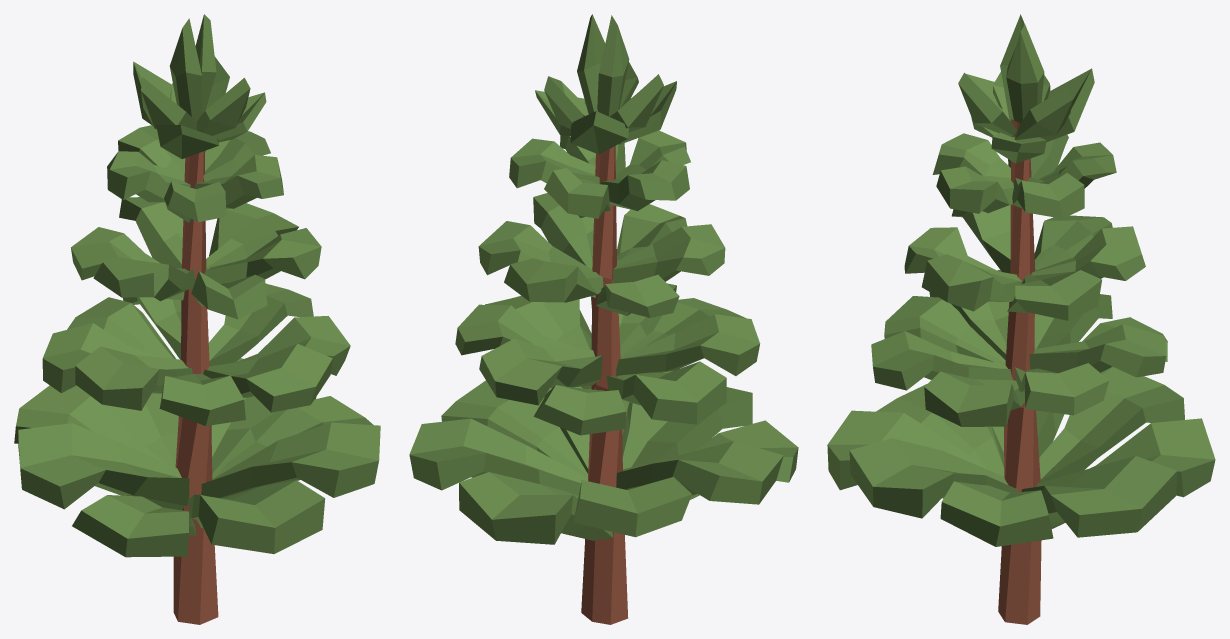
File: Tree_6_Medium.fbx
3 views of the same model, side by side, from view 1: azimuth 30°, elevation 25°; view 2: azimuth 150°, elevation 25°; view 3: azimuth 270°, elevation 25° (orthographic).
Parts seen in each view (by area): view 1: Tree_6_Medium; view 2: Tree_6_Medium; view 3: Tree_6_Medium.
Boxes of the visible parts, <box> form: Tree_6_Medium: <box>14,14,380,624</box>; Tree_6_Medium: <box>409,14,798,624</box>; Tree_6_Medium: <box>827,14,1215,624</box>.
Bounding box in the file's own units: 128 × 226 × 133.
